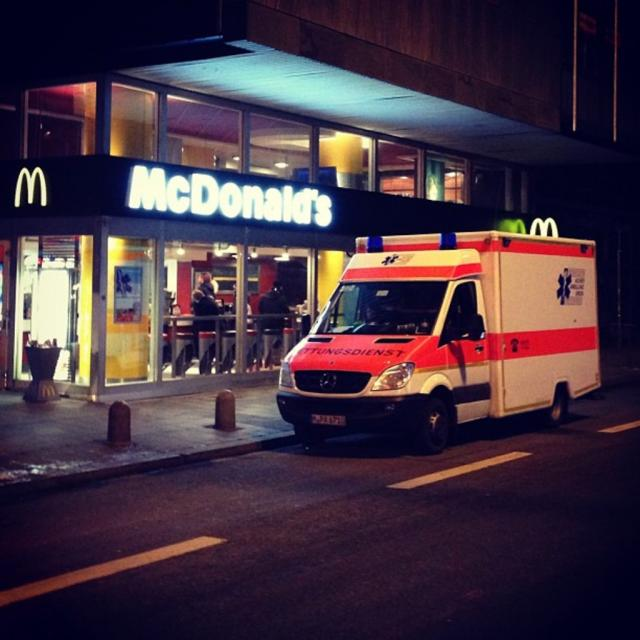Ambulance: (274, 229, 607, 452)
